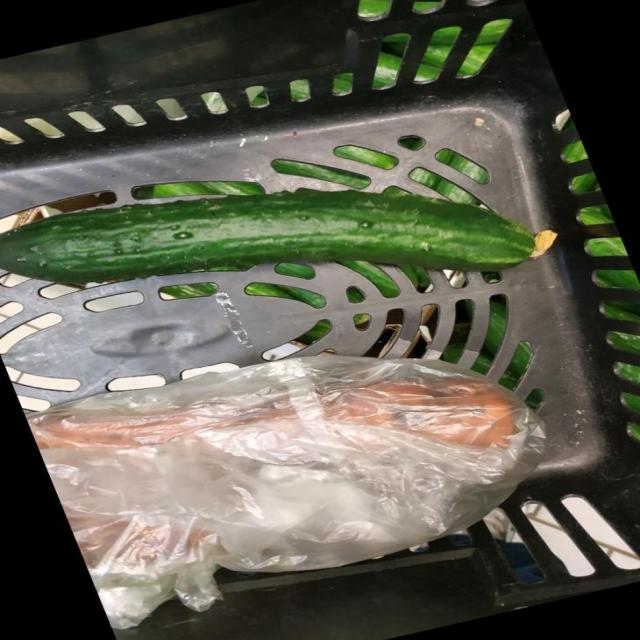Carrot: (316, 375, 518, 447), (31, 431, 122, 449)
Cucumber: (0, 188, 548, 284)
